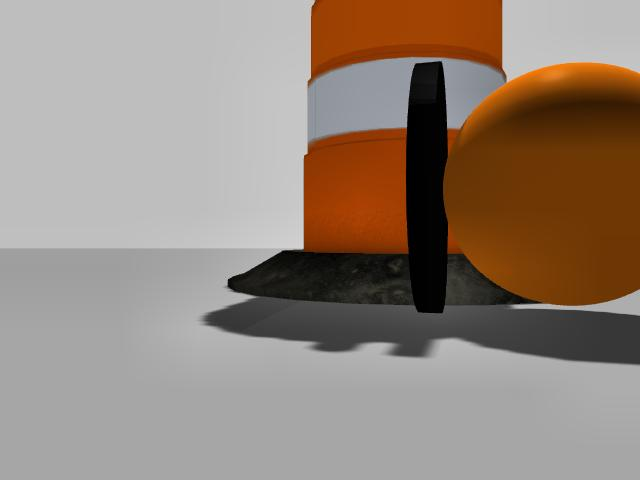target: (406, 61, 640, 315)
